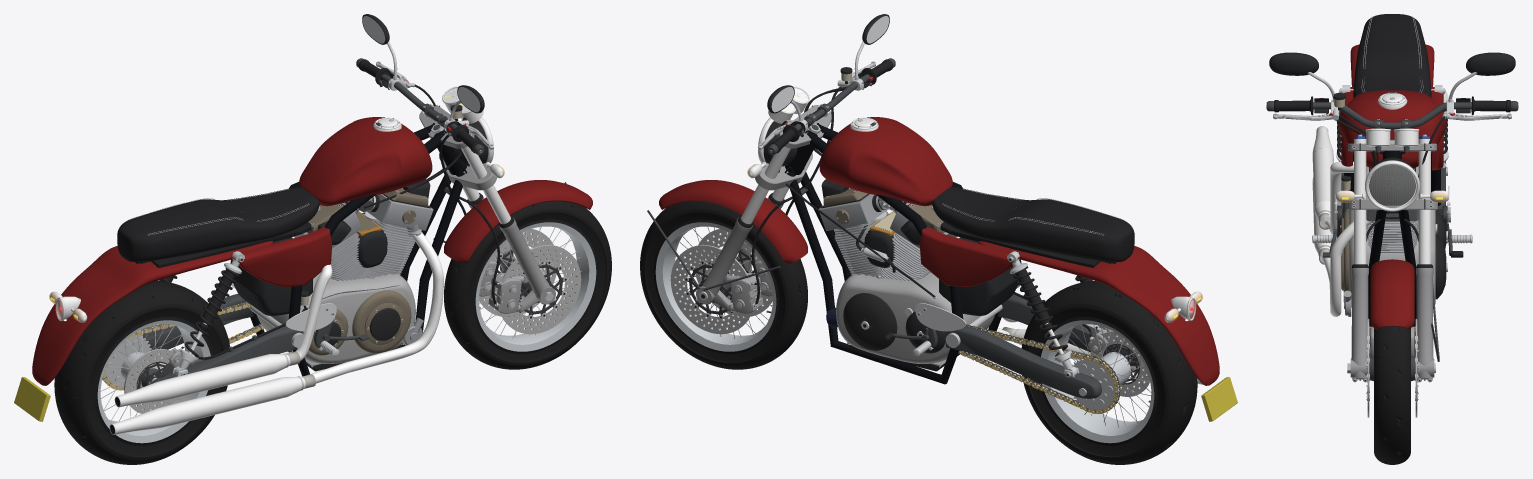
File: lodestar_classic.glb
3 views of the same model, side by side, from view 1: azimuth 30°, elevation 25°; view 2: azimuth 150°, elevation 25°; view 3: azimuth 270°, elevation 25° (orthographic). The views are drawn at different scales.
Parts seen in each view (by area): view 1: lodestar_classic; view 2: lodestar_classic; view 3: lodestar_classic.
Part boxes in pixels (x1=…): lodestar_classic: x1=14, y1=14, x2=611, y2=464; lodestar_classic: x1=640, y1=14, x2=1237, y2=464; lodestar_classic: x1=1266, y1=14, x2=1518, y2=464.
Bounding box in the file's own units: 2.26 × 1.25 × 0.8198.
